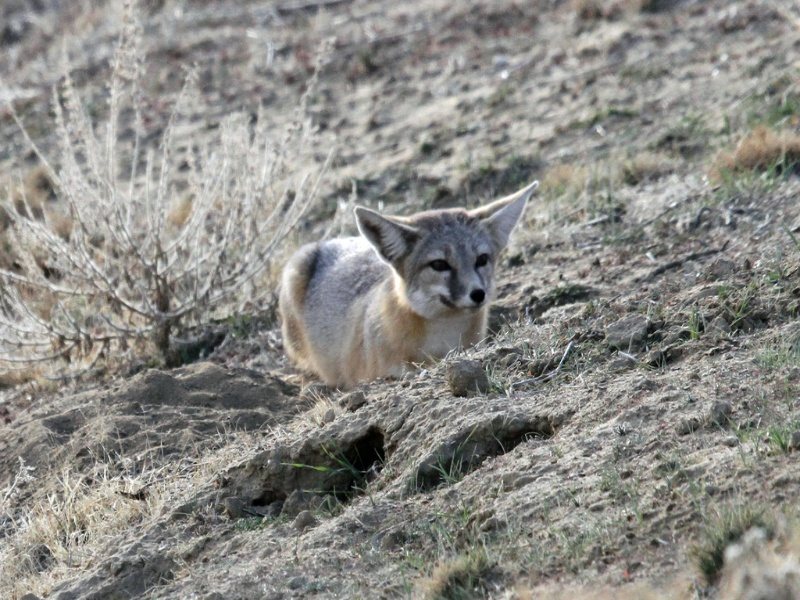fox: (263, 179, 557, 410)
